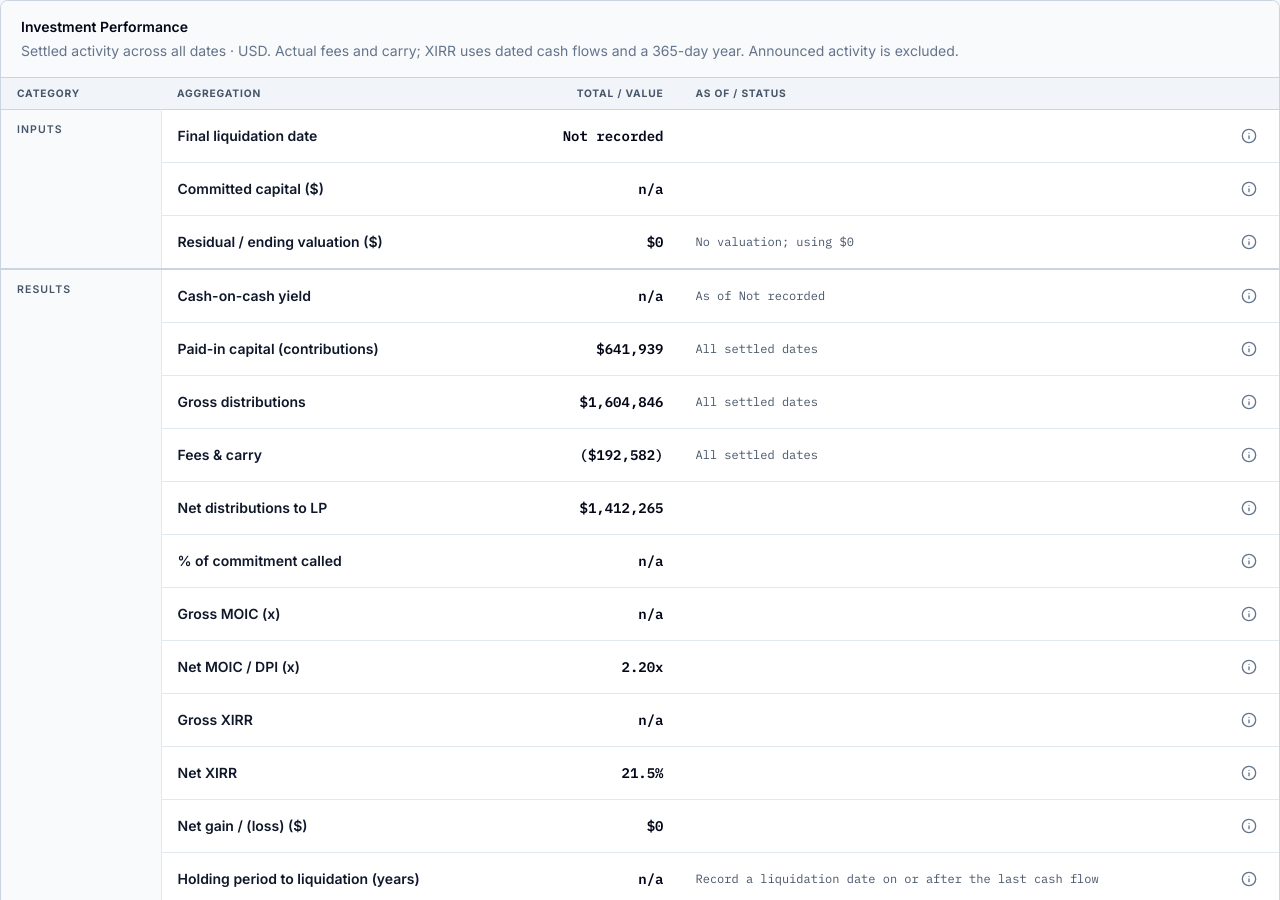
Test case: Investment Performance › floors net gain at zero and shows n/a for missing inputs
Expected: the row "Net gain / (loss) ($)" is shown, [1, 800, 1279, 853]
Expected: the text "$0" in the row of "Net gain / (loss) ($)" is shown, [647, 817, 664, 835]
Hover over the button named "Coverage and calculation basis for Net gain / (loss) ($)" at [1249, 826], box [1235, 812, 1263, 840]
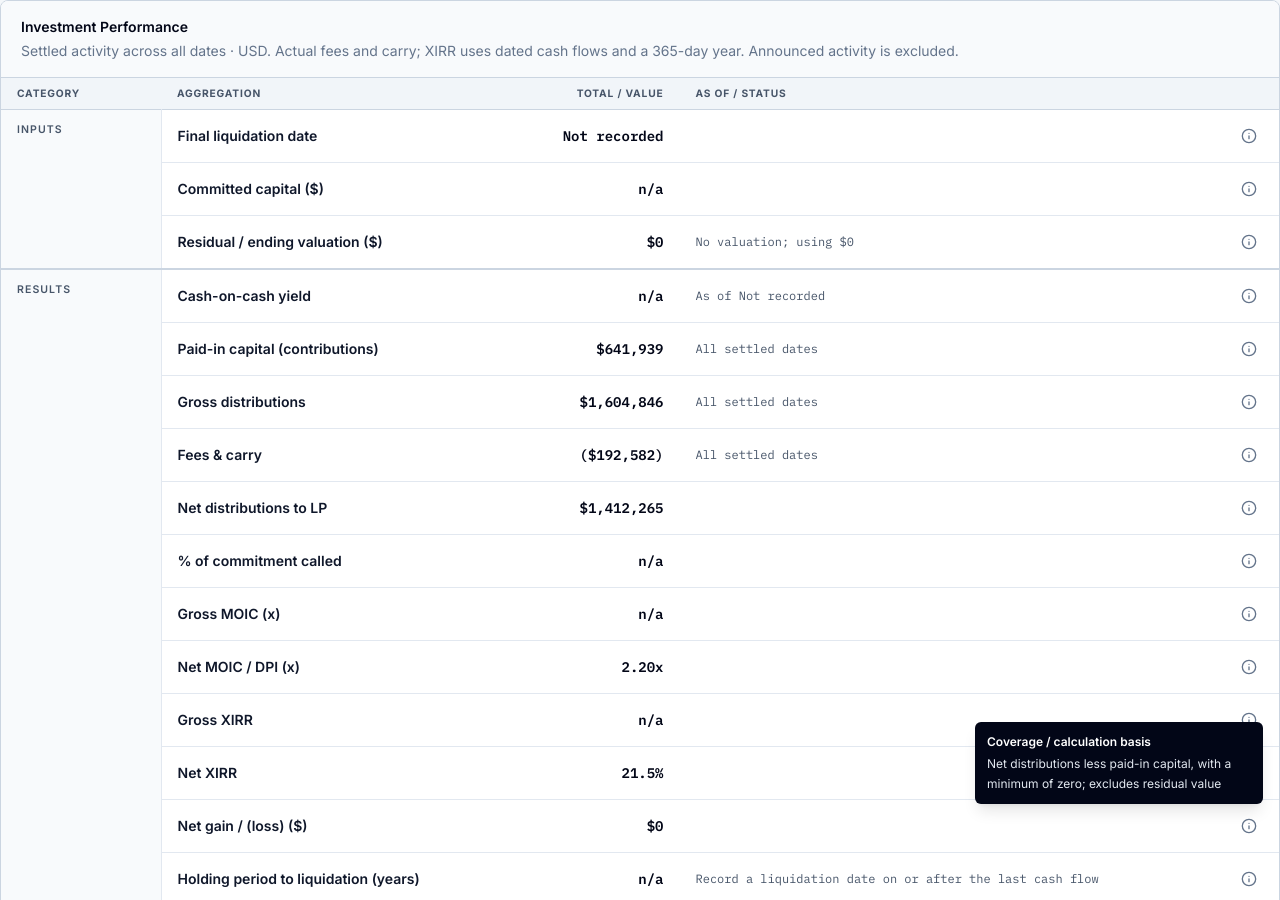
Expected: the tooltip shows "minimum of zero", [987, 756, 1231, 791]
Move the pointer off the button named "Coverage and calculation basis for Net gain / (loss) ($)", box [1235, 812, 1263, 840]
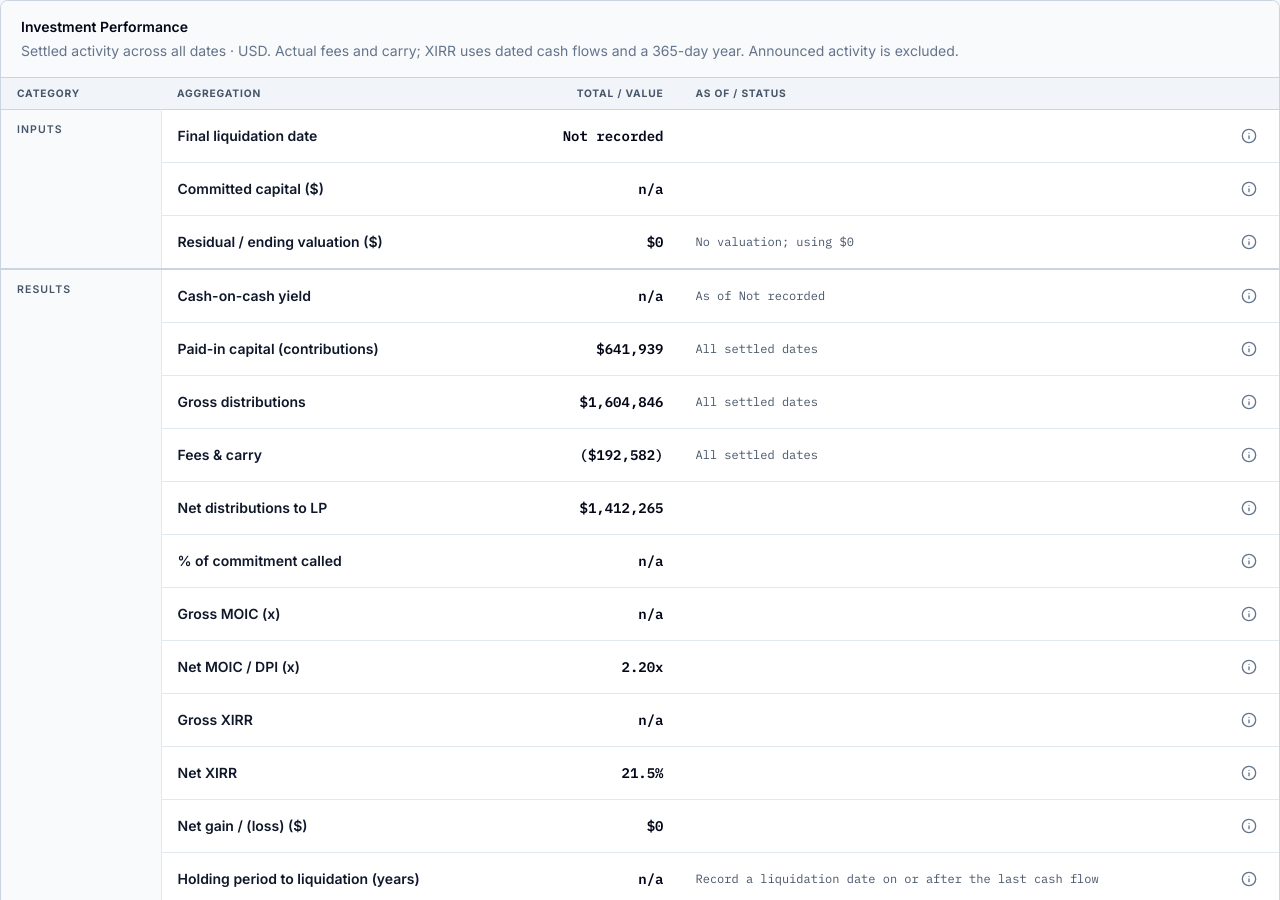
Expected: the text "Not recorded" is shown, [511, 110, 680, 163]
Expected: the text "No valuation; using $0" is shown, [696, 234, 854, 250]
Focus the button named "Coverage and calculation basis for Gross XIRR" at [1249, 720], box [1235, 706, 1263, 734]
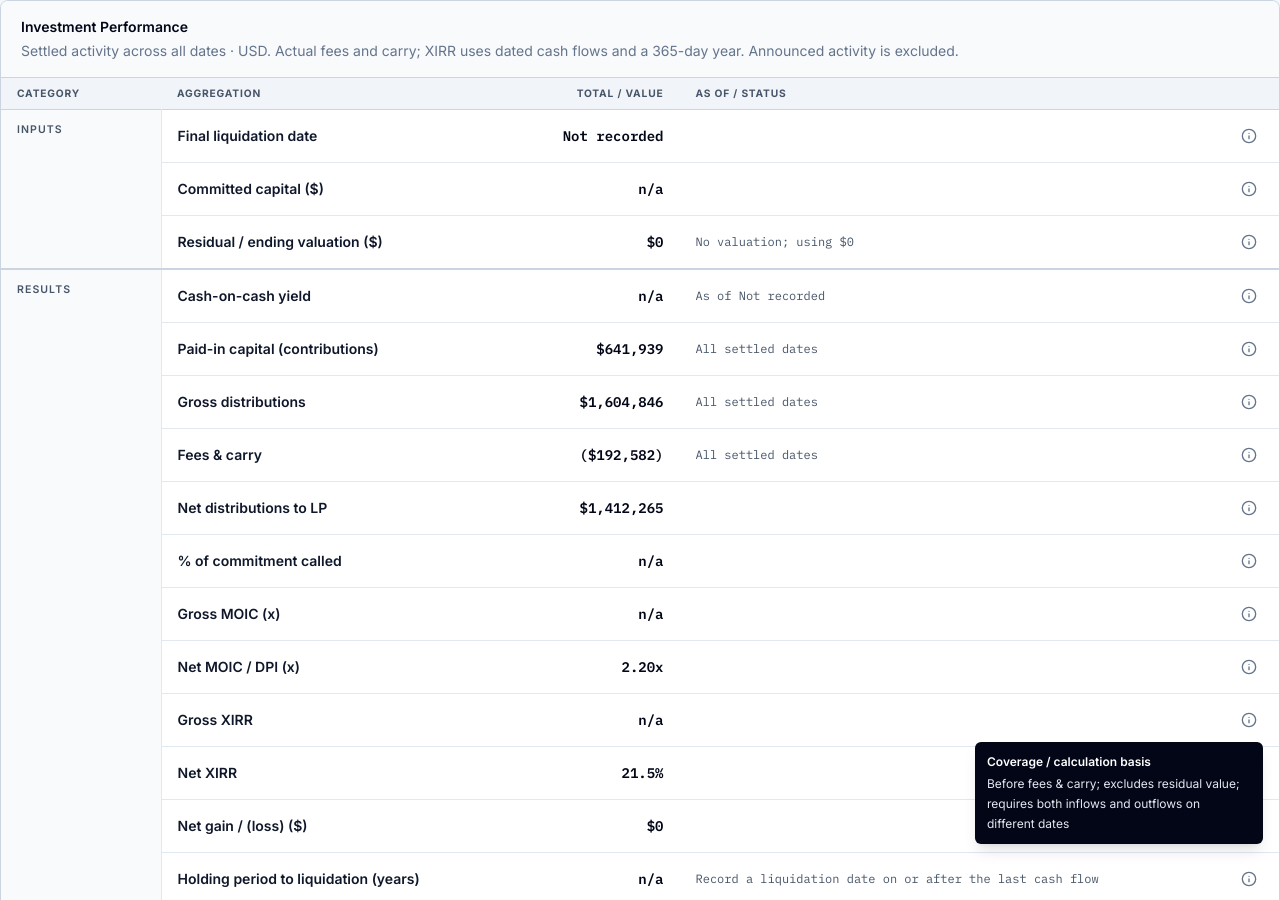
Expected: the tooltip shows "requires both inflows and outflows", [987, 776, 1240, 831]
